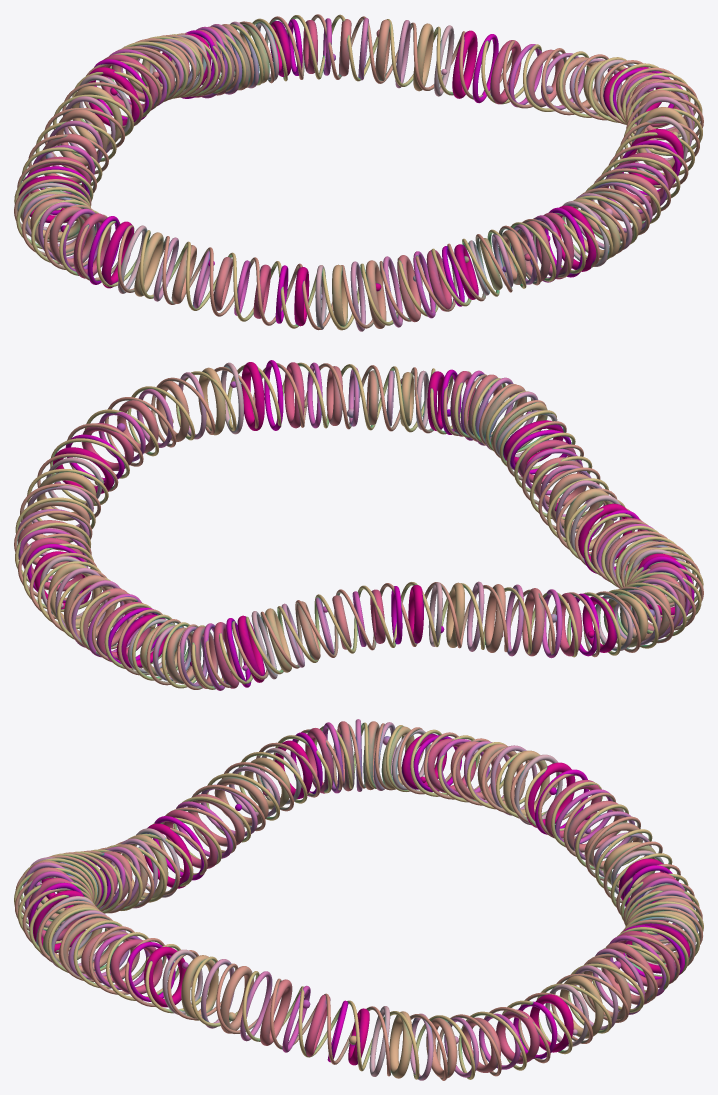
File: tunnel.glb
3 views of the same model, one above another, from view 1: azimuth 30°, elevation 25°; view 2: azimuth 150°, elevation 25°; view 3: azimuth 270°, elevation 25° (orthographic).
Visible parts, largest first — view 1: tunnel; view 2: tunnel; view 3: tunnel.
Part boxes in pixels (x1,y1,x2,y2): tunnel: (14,14,703,331); tunnel: (14,360,703,690); tunnel: (14,719,703,1080).
Size of the model in its own units: 64.82 by 11.95 by 60.11.
